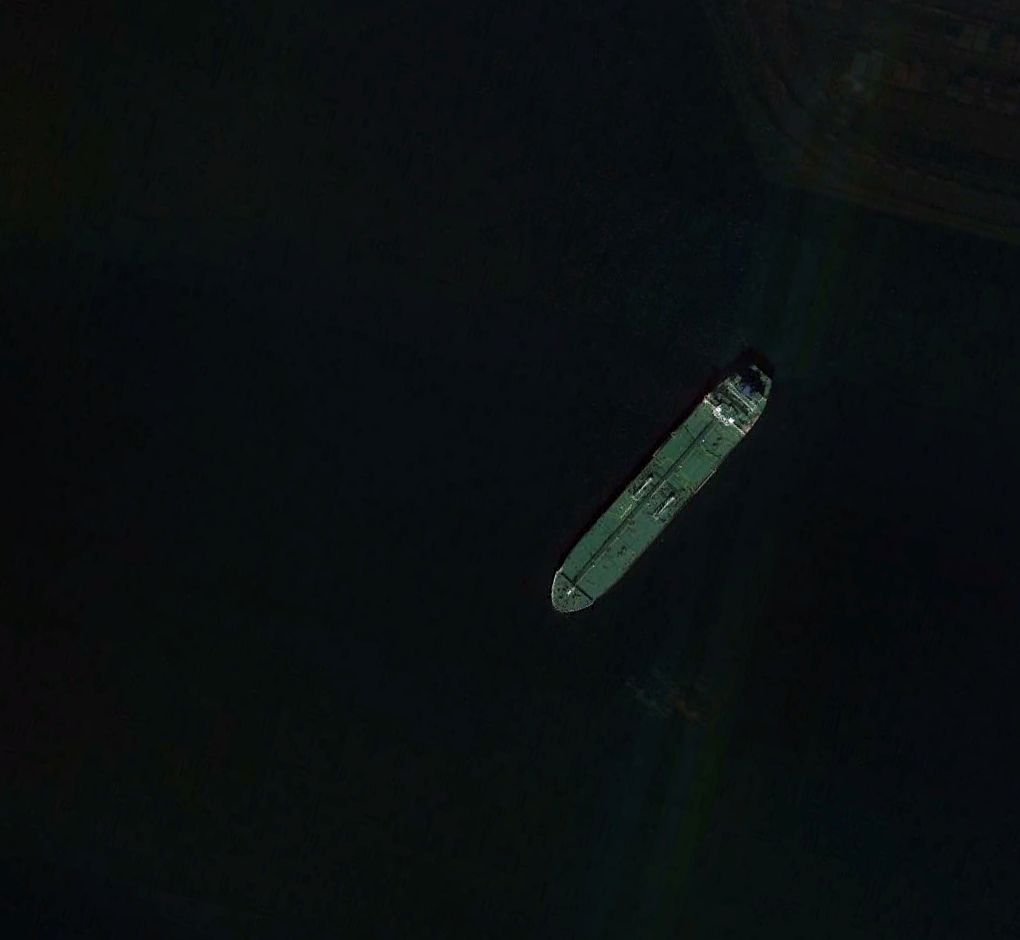boat: (547, 359, 781, 618)
